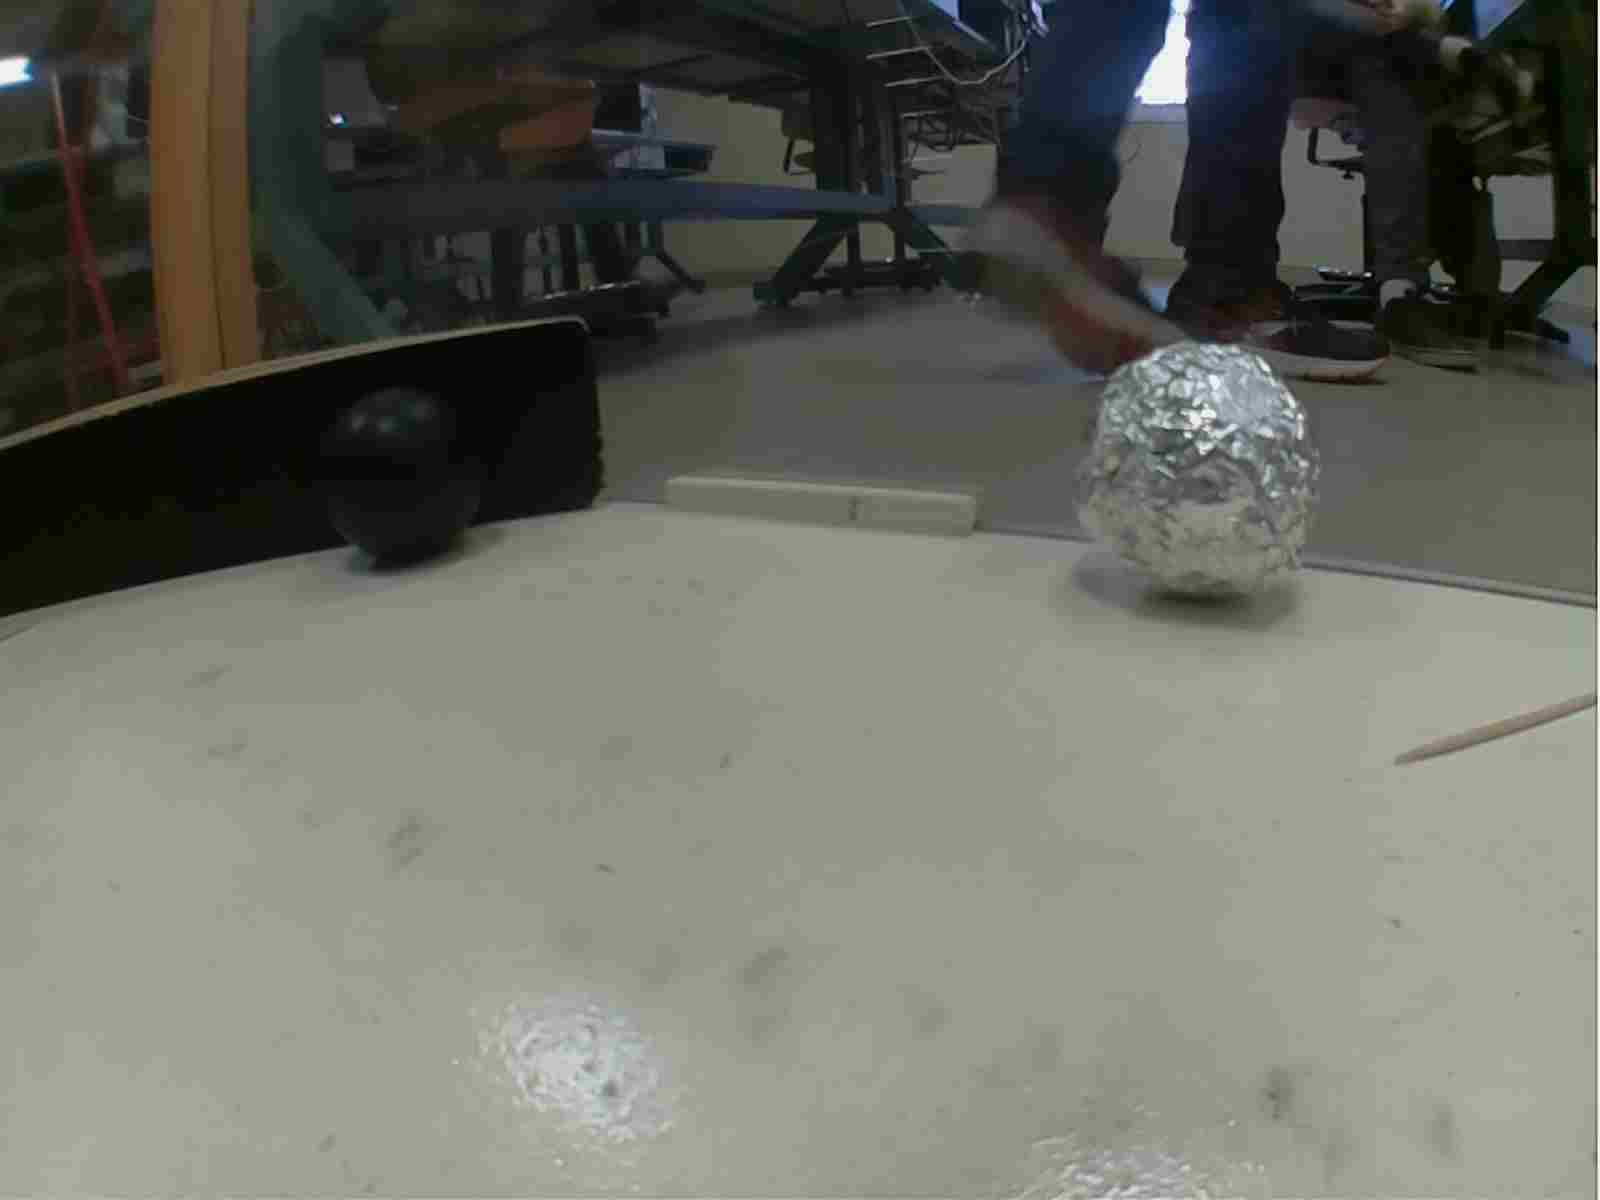bianca: (1080, 339, 1323, 609)
nera: (324, 413, 483, 574)
